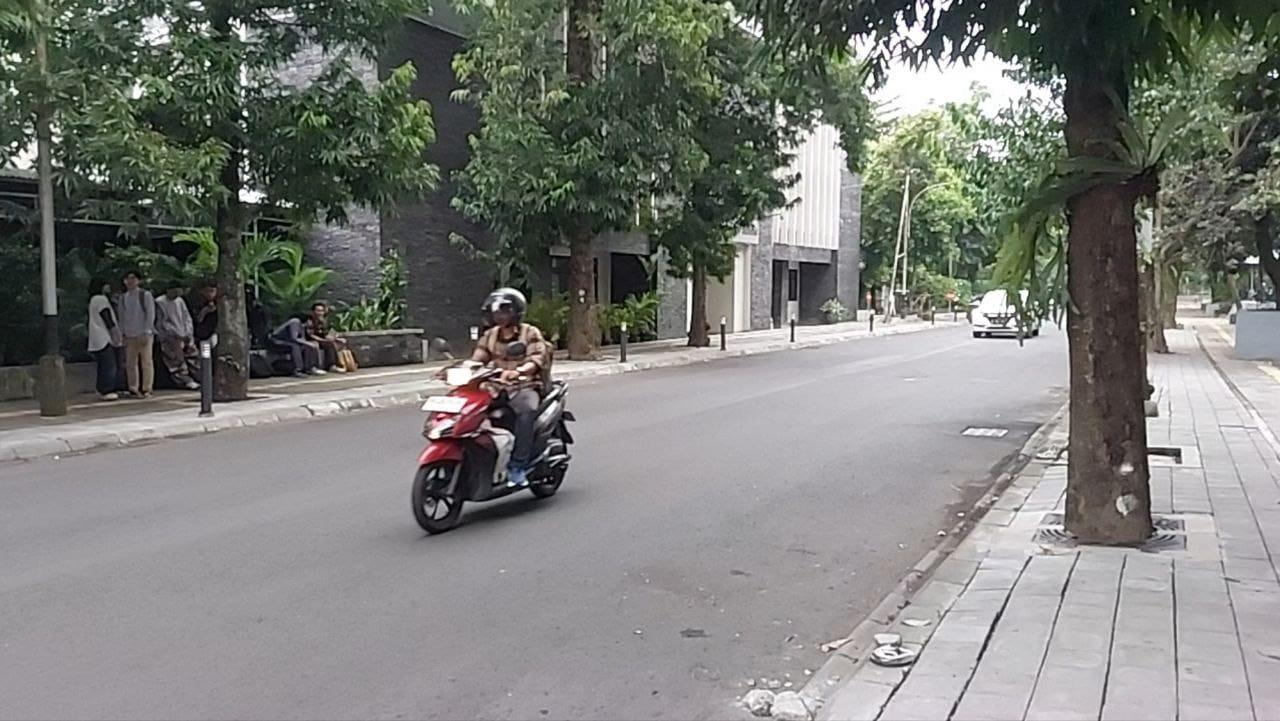helm: (480, 287, 529, 331)
riding: (410, 286, 577, 534)
